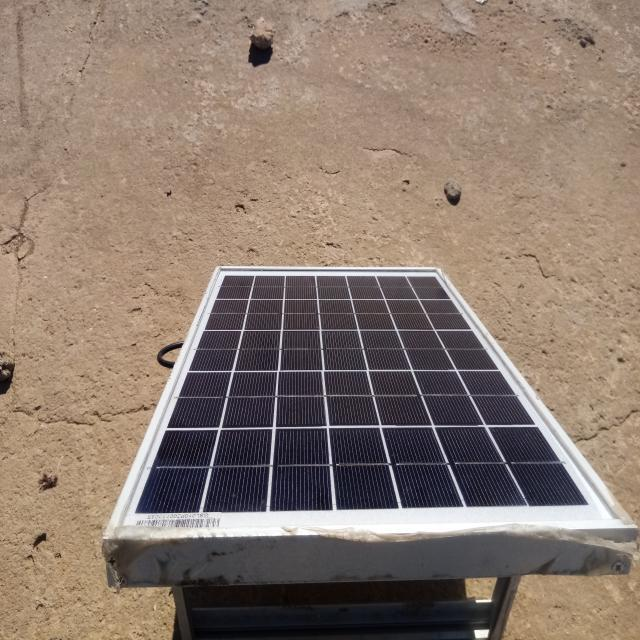no faulty: (106, 265, 634, 539)
